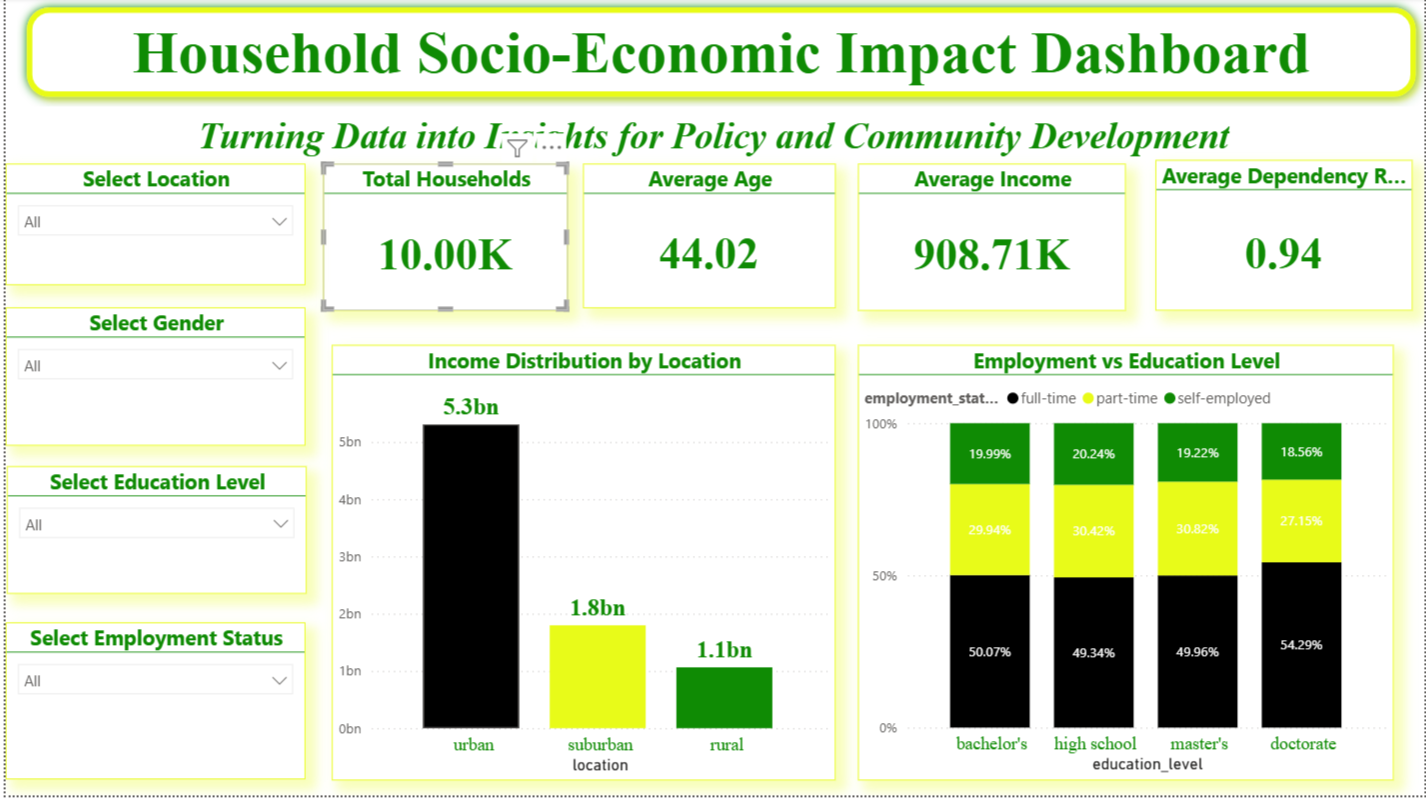

What the dashboard file says about the page in this screenshot:
{"tool":"powerbi","page":{"name":"Page 1","canvas":[1280,720],"ordinal":0},"visuals":[{"type":"shape","title":"Household Socio-Economic Impact Dashboard","box":[9.6,0,1270.7,98.8],"z":0},{"type":"shape","box":[8.2,98.8,1261.1,50.8],"z":1000},{"type":"card","title":"Total Households","fields":{"Values":["Sum(fct_household_indicators.total_households)"]},"box":[403.4,163.3,256.6,116.6],"z":2000},{"type":"card","title":"Average Income","fields":{"Values":["Avg(fct_household_indicators.avg_income)"]},"box":[683.4,163.3,277.2,116.6],"z":3000},{"type":"card","title":"Average Dependency Ratio","fields":{"Values":["Avg(fct_household_indicators.avg_dependency_ratio)"]},"box":[990.7,163.3,260.7,116.6],"z":4000},{"type":"clusteredColumnChart","title":"Income Distribution by Location","fields":{"Category":["fct_household_indicators.location"],"Y":["Sum(dim_households.income)"]},"box":[403.4,295,351.3,351.3],"z":5000},{"type":"hundredPercentStackedColumnChart","title":"Employment vs Education Level","fields":{"Category":["dim_households.education_level"],"Y":["CountNonNull(dim_households.household_id)"],"Series":["dim_households.employment_status"]},"box":[776.7,295,474.8,369.1],"z":6000},{"type":"slicer","title":"Select Location","fields":{"Values":["dim_households.location"]},"box":[0,149.6,270.3,109.8],"z":7000},{"type":"slicer","title":"Select Gender","fields":{"Values":["dim_households.gender"]},"box":[0,279.9,270.3,124.9],"z":8000},{"type":"slicer","fields":{"Values":["dim_households.employment_status"]},"box":[0,557.1,270.3,141.3],"z":9000}]}

Visuals, with their boxes in screenshot pixels (x1, y1, x2, y2), scaled from the page's 1280x720 canvas onto the 1426x802 screenshot:
"Household Socio-Economic Impact Dashboard" shape: [11, 0, 1425, 110]
shape: [9, 110, 1414, 167]
"Total Households" card: [449, 182, 735, 312]
"Average Income" card: [761, 182, 1070, 312]
"Average Dependency Ratio" card: [1104, 182, 1394, 312]
"Income Distribution by Location" clusteredColumnChart: [449, 329, 841, 720]
"Employment vs Education Level" hundredPercentStackedColumnChart: [865, 329, 1394, 740]
"Select Location" slicer: [0, 167, 301, 289]
"Select Gender" slicer: [0, 312, 301, 451]
slicer - dim_households.employment_status: [0, 621, 301, 778]
